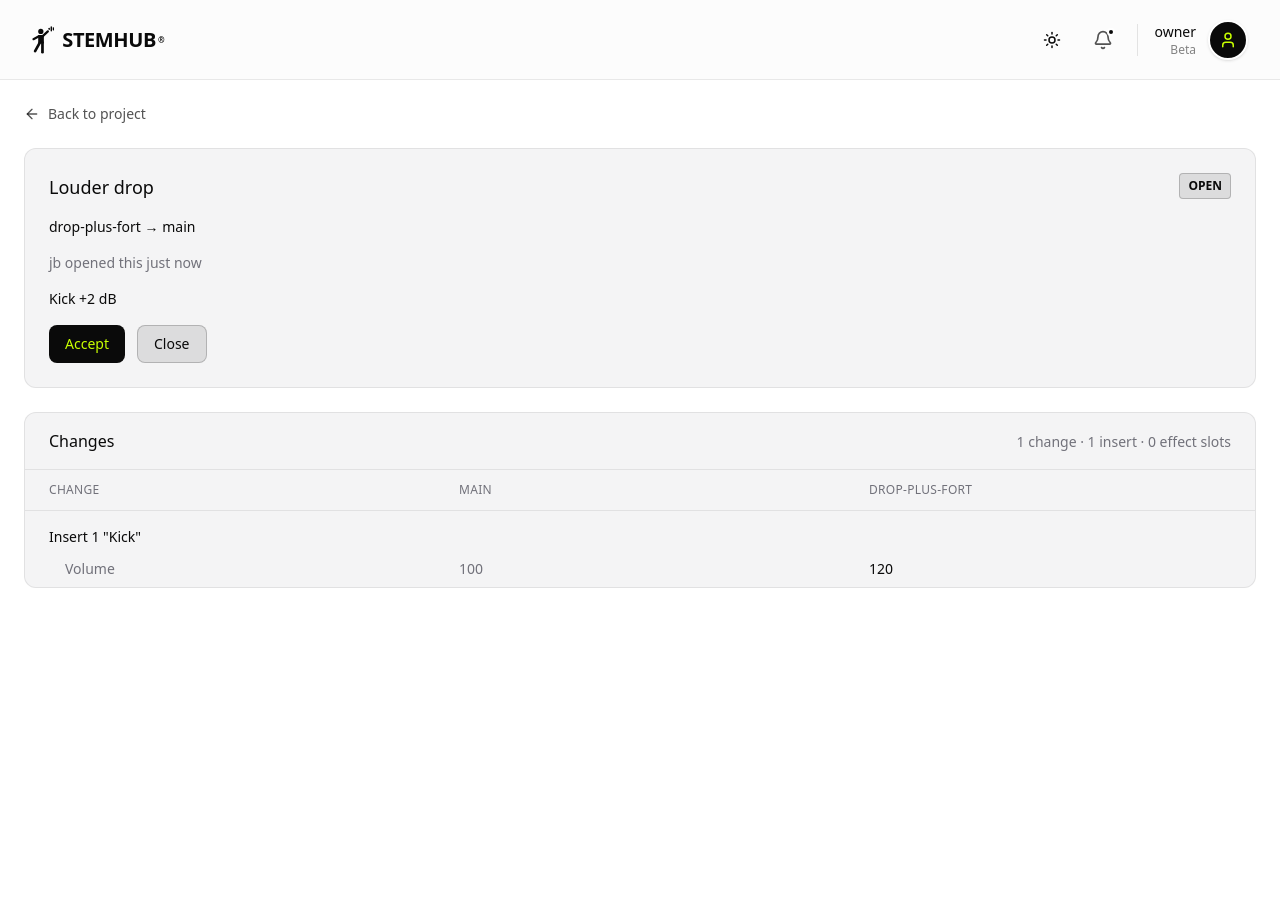
Test case: PullRequestPage › reloads the changes when the source branch got a new version before accepting
Expected: the row "Volume 100 120" is shown, [25,551,1255,587]
Click the button "Accept" at (87, 344), box [49,325,125,363]
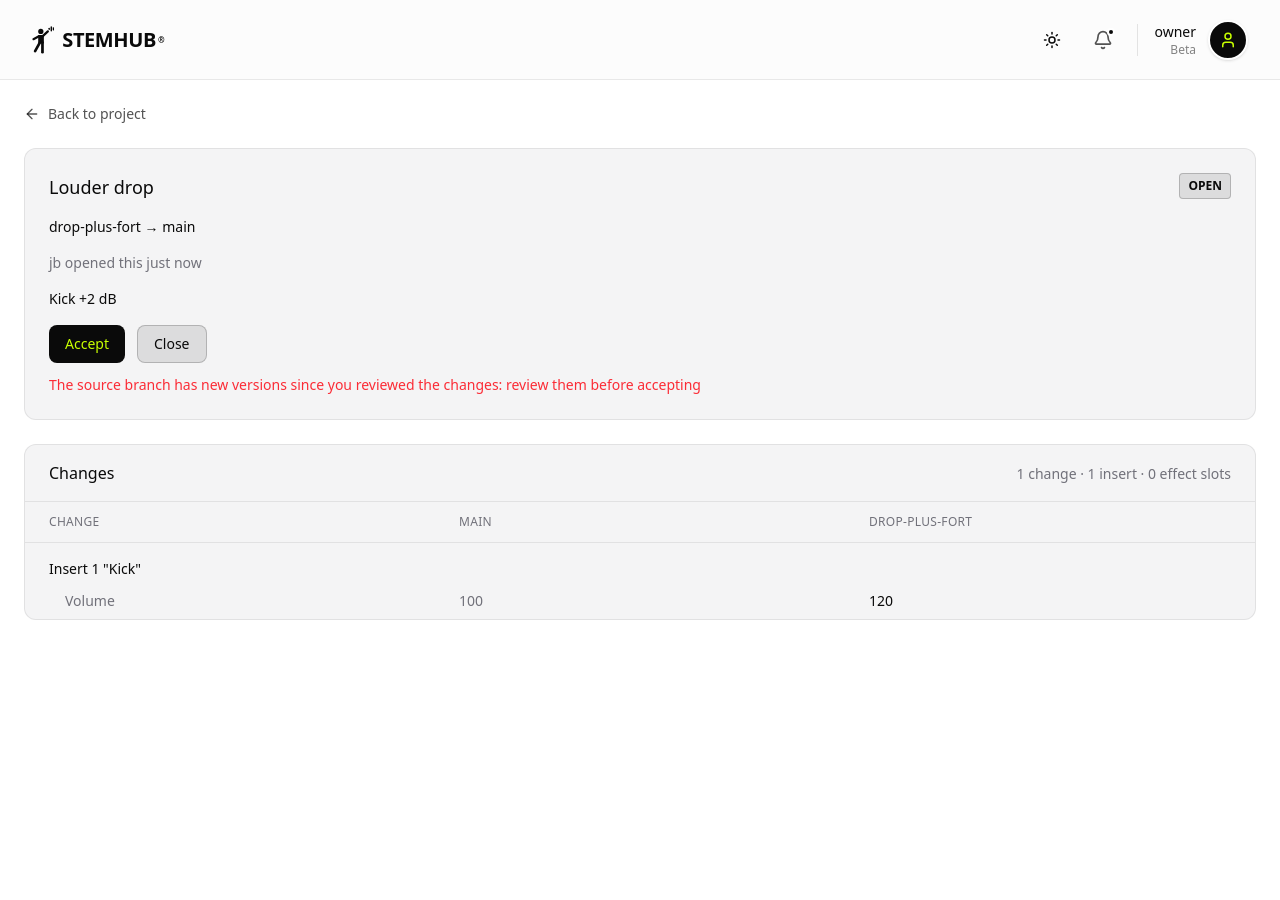
Expected: the text "The source branch has new versions since you reviewed the changes: review them before accepting" is shown, [49,375,701,394]
